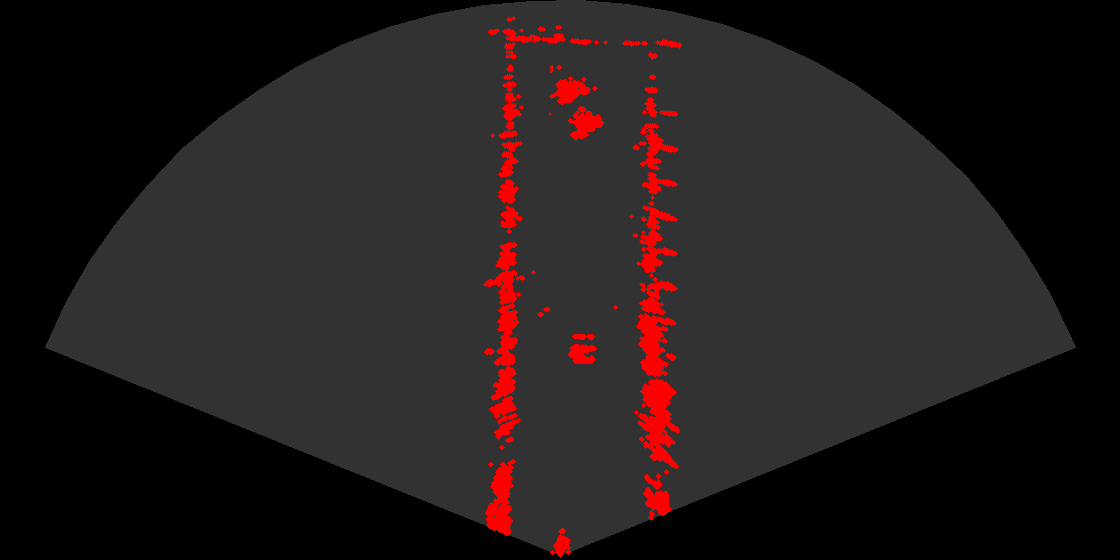ball: (548, 326, 608, 367)
cage: (549, 65, 612, 149)
